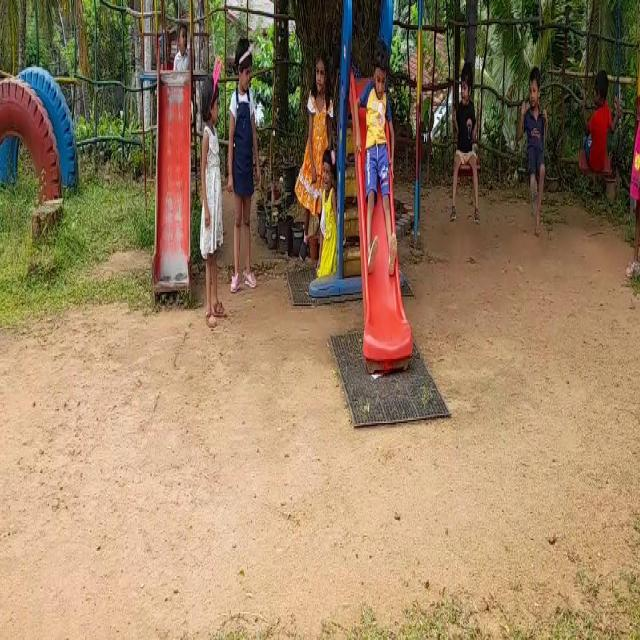child: (224, 37, 265, 292), (358, 32, 399, 282), (194, 63, 227, 330), (517, 53, 552, 247), (448, 38, 481, 220), (298, 30, 323, 248), (580, 42, 615, 184), (629, 31, 640, 281)
